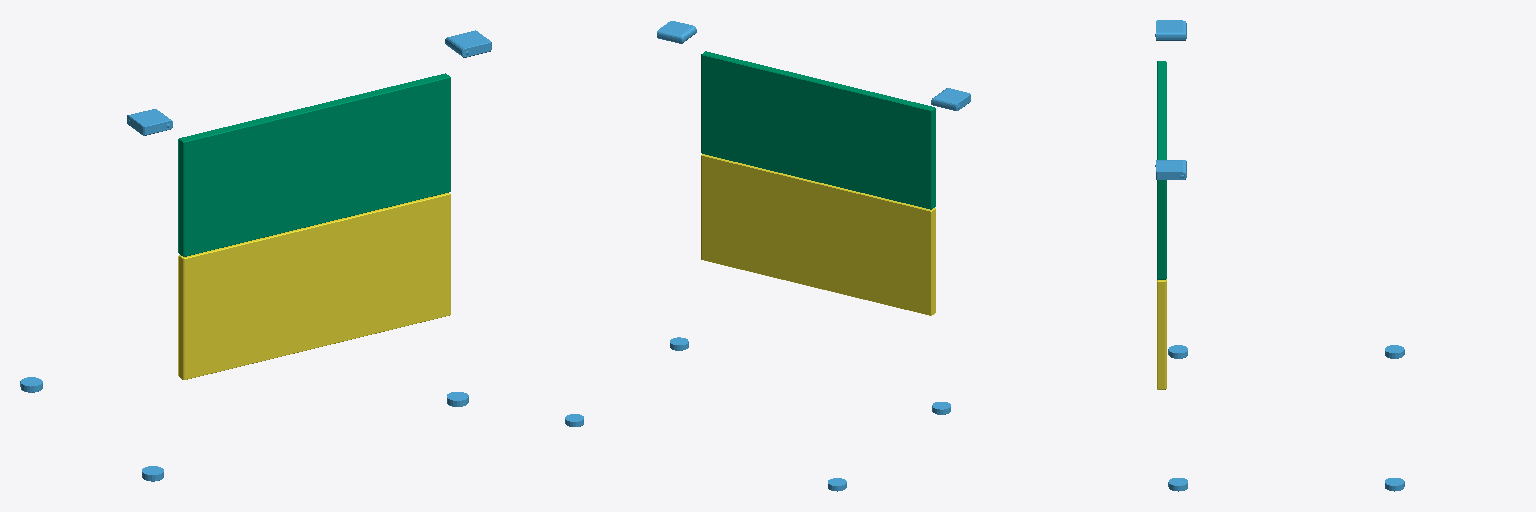
URDF robot description (drawer):
<?xml version='1.0' encoding='utf-8'?>
<robot name="drawer">
  <link name="root" />
  <joint name="root_rotation" type="fixed">
    <origin rpy="0 0 0" xyz="0 0 0" />
    <parent link="root" />
    <child link="Nightstand0061" />
  </joint>
  <link name="Nightstand0061">
    <collision>
      <origin rpy="0.000000 -0.000000 0.000000" xyz="0 0.00910774 0.32143194" />
      <geometry>
        <box size="0.32410399 0.235711997 0.0347999992" />
      </geometry>
    </collision>
    <collision>
      <origin rpy="0.000000 -0.000000 0.000000" xyz="0 0.00910774 0.07252958" />
      <geometry>
        <box size="0.319347996 0.230956003 0.0331759998" />
      </geometry>
    </collision>
    <collision>
      <origin rpy="0.000000 -0.000000 0.000000" xyz="0.14425296 0.00910774 0.1966113" />
      <geometry>
        <box size="0.035612 0.235711997 0.216166003" />
      </geometry>
    </collision>
    <collision>
      <origin rpy="0.000000 -0.000000 0.000000" xyz="-0.14425238 0.00910774 0.1965533" />
      <geometry>
        <box size="0.035612 0.235711997 0.216050001" />
      </geometry>
    </collision>
    <collision>
      <origin rpy="0.000000 -0.000000 0.000000" xyz="0.00029058 0.12299364 0.19685026" />
      <geometry>
        <box size="0.253866002 0.00794600001 0.216629994" />
      </geometry>
    </collision>
    <collision>
      <origin rpy="0.000000 -0.000000 0.000000" xyz="0.14285748 -0.08925794 0.02961828" />
      <geometry>
        <box size="0.033639999 0.0342200002 0.0549260007" />
      </geometry>
    </collision>
    <collision>
      <origin rpy="0.000000 -0.000000 0.000000" xyz="0.14285748 0.10747342 0.02948836" />
      <geometry>
        <box size="0.033639999 0.0342200002 0.0546360001" />
      </geometry>
    </collision>
    <collision>
      <origin rpy="0.000000 -0.000000 0.000000" xyz="-0.14285748 -0.08925794 0.02920648" />
      <geometry>
        <box size="0.033639999 0.0342200002 0.0540559989" />
      </geometry>
    </collision>
    <collision>
      <origin rpy="0.000000 -0.000000 0.000000" xyz="-0.14285748 0.10747342 0.02920996" />
      <geometry>
        <box size="0.033639999 0.0342200002 0.0540559989" />
      </geometry>
    </collision>
    <visual>
      <origin xyz="0 0 0" rpy="0 0 0" />
      <geometry>
        <mesh filename="drawer_meshes/Nightstand0061/part_00/mesh.obj" scale="0.58 0.58 0.58" />
      </geometry>
    </visual>
    <visual>
      <origin xyz="0 0 0" rpy="0 0 0" />
      <geometry>
        <mesh filename="drawer_meshes/Nightstand0061/part_01/mesh.obj" scale="0.58 0.58 0.58" />
      </geometry>
    </visual>
    <inertial>
      <origin xyz="-1.653e-07 0.0084245493 0.169417991" rpy="0 0 0" />
      <mass value="1.8" />
      <inertia ixx="0.025652366" ixy="0" ixz="0" iyy="0.0332963945" iyz="0" izz="0.0245058136" />
    </inertial>
  </link>
  <link name="Nightstand0061_drawer01">
    <collision>
      <origin rpy="0.000000 -0.000000 0.000000" xyz="6.96e-06 0.00087812 -0.00012818" />
      <geometry>
        <box size="0.250328003 0.00881600015 0.103124" />
      </geometry>
    </collision>
    <collision>
      <origin rpy="0.000000 -0.000000 0.000000" xyz="0.10923024 0.11408774 -0.0087" />
      <geometry>
        <box size="0.0110199996 0.218138002 0.0718040012" />
      </geometry>
    </collision>
    <collision>
      <origin rpy="0.000000 -0.000000 0.000000" xyz="-0.10923024 0.11408426 -0.0087" />
      <geometry>
        <box size="0.0110199996 0.218138002 0.0718040012" />
      </geometry>
    </collision>
    <collision>
      <origin rpy="0.000000 -0.000000 0.000000" xyz="1.914e-05 0.2176479 -0.0087" />
      <geometry>
        <box size="0.208974003 0.0110199996 0.0718040012" />
      </geometry>
    </collision>
    <collision>
      <origin rpy="0.000000 -0.000000 0.000000" xyz="5.51e-05 0.10912468 -0.03907924" />
      <geometry>
        <box size="0.209437993 0.207930002 0.0110199996" />
      </geometry>
    </collision>
    <visual>
      <origin xyz="0 0 0" rpy="0 0 0" />
      <geometry>
        <mesh filename="drawer_meshes/Nightstand0061_drawer01/part_00/mesh.obj" scale="0.58 0.58 0.58" />
      </geometry>
    </visual>
    <collision name="graspable_handle_bar_Nightstand0061_drawer01">
      <origin xyz="4.11278e-05 -0.0448024538 0.0019672034" rpy="0 0 0" />
      <geometry>
        <box size="0.175594745 0.0092645256 0.02334877" />
      </geometry>
    </collision>
    <collision name="graspable_handle_support_a_Nightstand0061_drawer01">
      <origin xyz="-0.0789765074 -0.021742199 0.0019672208" rpy="0 0 0" />
      <geometry>
        <box size="0.0175594745 0.0553850352 0.0233488048" />
      </geometry>
    </collision>
    <collision name="graspable_handle_support_b_Nightstand0061_drawer01">
      <origin xyz="0.079058763 -0.021742199 0.0019672208" rpy="0 0 0" />
      <geometry>
        <box size="0.0175594745 0.0553850352 0.0233488048" />
      </geometry>
    </collision>
    <visual>
      <origin xyz="0 0 0" rpy="0 0 0" />
      <geometry>
        <mesh filename="drawer_meshes/Nightstand0061_drawer01/part_01/mesh.obj" scale="0.58 0.58 0.58" />
      </geometry>
    </visual>
    <inertial>
      <origin xyz="-2.668e-06 0.086861612 -0.0001284671" rpy="0 0 0" />
      <mass value="0.35" />
      <inertia ixx="0.00247730306" ixy="0" ixz="0" iyy="0.0021382018" iyz="0" izz="0.00399545956" />
    </inertial>
  </link>
  <link name="Nightstand0061_drawer02">
    <collision>
      <origin rpy="0.000000 -0.000000 0.000000" xyz="-2.32e-06 0.00083636 -9.338e-05" />
      <geometry>
        <box size="0.250385995 0.00881600015 0.108982004" />
      </geometry>
    </collision>
    <collision>
      <origin rpy="0.000000 -0.000000 0.000000" xyz="0.10923024 0.11406454 -0.0087" />
      <geometry>
        <box size="0.0110199996 0.218195994 0.077662001" />
      </geometry>
    </collision>
    <collision>
      <origin rpy="0.000000 -0.000000 0.000000" xyz="-0.10923024 0.11407498 -0.0087" />
      <geometry>
        <box size="0.0110199996 0.218138002 0.077662001" />
      </geometry>
    </collision>
    <collision>
      <origin rpy="0.000000 -0.000000 0.000000" xyz="-0.00016646 0.2176479 -0.0087" />
      <geometry>
        <box size="0.209263999 0.0110199996 0.077662001" />
      </geometry>
    </collision>
    <collision>
      <origin rpy="0.000000 -0.000000 0.000000" xyz="-0.00017922 0.10932188 -0.0420239" />
      <geometry>
        <box size="0.209090005 0.208393993 0.0110199996" />
      </geometry>
    </collision>
    <visual>
      <origin xyz="0 0 0" rpy="0 0 0" />
      <geometry>
        <mesh filename="drawer_meshes/Nightstand0061_drawer02/part_00/mesh.obj" scale="0.58 0.58 0.58" />
      </geometry>
    </visual>
    <collision name="graspable_handle_bar_Nightstand0061_drawer02">
      <origin xyz="4.1238e-05 -0.0448441094 0.0015034992" rpy="0 0 0" />
      <geometry>
        <box size="0.175594745 0.009264514 0.0233487352" />
      </geometry>
    </collision>
    <collision name="graspable_handle_support_a_Nightstand0061_drawer02">
      <origin xyz="-0.0789763972 -0.0217838488 0.0015034992" rpy="0 0 0" />
      <geometry>
        <box size="0.0175594745 0.0553850352 0.0233487352" />
      </geometry>
    </collision>
    <collision name="graspable_handle_support_b_Nightstand0061_drawer02">
      <origin xyz="0.0790588732 -0.0217838488 0.0015034992" rpy="0 0 0" />
      <geometry>
        <box size="0.0175594745 0.0553850352 0.0233487352" />
      </geometry>
    </collision>
    <visual>
      <origin xyz="0 0 0" rpy="0 0 0" />
      <geometry>
        <mesh filename="drawer_meshes/Nightstand0061_drawer02/part_01/mesh.obj" scale="0.58 0.58 0.58" />
      </geometry>
    </visual>
    <inertial>
      <origin xyz="-2.552e-06 0.0868407871 -9.32176e-05" rpy="0 0 0" />
      <mass value="0.35" />
      <inertia ixx="0.00251439161" ixy="0" ixz="0" iyy="0.00217462802" iyz="0" izz="0.00399612189" />
    </inertial>
  </link>
  <joint name="Nightstand0061_drawer01" type="prismatic">
    <parent link="Nightstand0061" />
    <child link="Nightstand0061_drawer01" />
    <axis xyz="0.000000 -1.000000 0.000000" />
    <limit effort="100.0000" lower="-0" upper="0.210622245" velocity="0.5" />
    <origin rpy="0 0 0" xyz="2.9e-06 -0.10522128 0.25162952" />
    <dynamics damping="0.8" friction="0.2" />
  </joint>
  <joint name="Nightstand0061_drawer02" type="prismatic">
    <parent link="Nightstand0061" />
    <child link="Nightstand0061_drawer02" />
    <axis xyz="0.000000 -1.000000 0.000000" />
    <limit effort="100.0000" lower="-0" upper="0.210622245" velocity="0.5" />
    <origin rpy="0 0 0" xyz="2.32e-06 -0.10517952 0.144391" />
    <dynamics damping="0.8" friction="0.2" />
  </joint>
</robot>

--- Render facts (derived) ---
3 views of the same robot in one strip: view 1: azimuth 30°, elevation 25°; view 2: azimuth 150°, elevation 25°; view 3: azimuth 270°, elevation 25° (orthographic).
Robot: drawer — 4 links, 3 joints (2 prismatic, 1 fixed); root link root; default pose: all joints at 0.
Visible links, largest first — view 1: Nightstand0061_drawer02, Nightstand0061_drawer01, Nightstand0061; view 2: Nightstand0061_drawer02, Nightstand0061_drawer01, Nightstand0061; view 3: Nightstand0061, Nightstand0061_drawer01, Nightstand0061_drawer02.
Boxes of the visible links, box(x1,y1,x2,y2) form: Nightstand0061_drawer02: box(178, 193, 450, 379); Nightstand0061_drawer01: box(178, 73, 450, 256); Nightstand0061: box(20, 30, 491, 481); Nightstand0061_drawer02: box(701, 154, 935, 315); Nightstand0061_drawer01: box(701, 51, 935, 209); Nightstand0061: box(565, 21, 970, 491); Nightstand0061: box(1155, 20, 1404, 491); Nightstand0061_drawer01: box(1157, 61, 1166, 279); Nightstand0061_drawer02: box(1157, 279, 1166, 389).
Size in the robot's own frame: 0.3274 by 0.2264 by 0.326 metres.
3 mesh visuals loaded from 6 distinct referenced files (3 OBJ); not drawn: 3 (reference not matched to a file when rendering).
